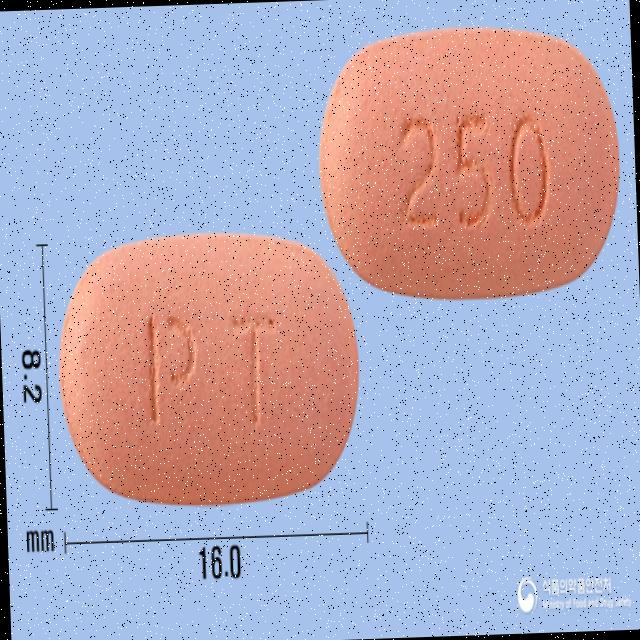Urolevo Tab: (316, 20, 622, 306), (54, 225, 362, 509)
